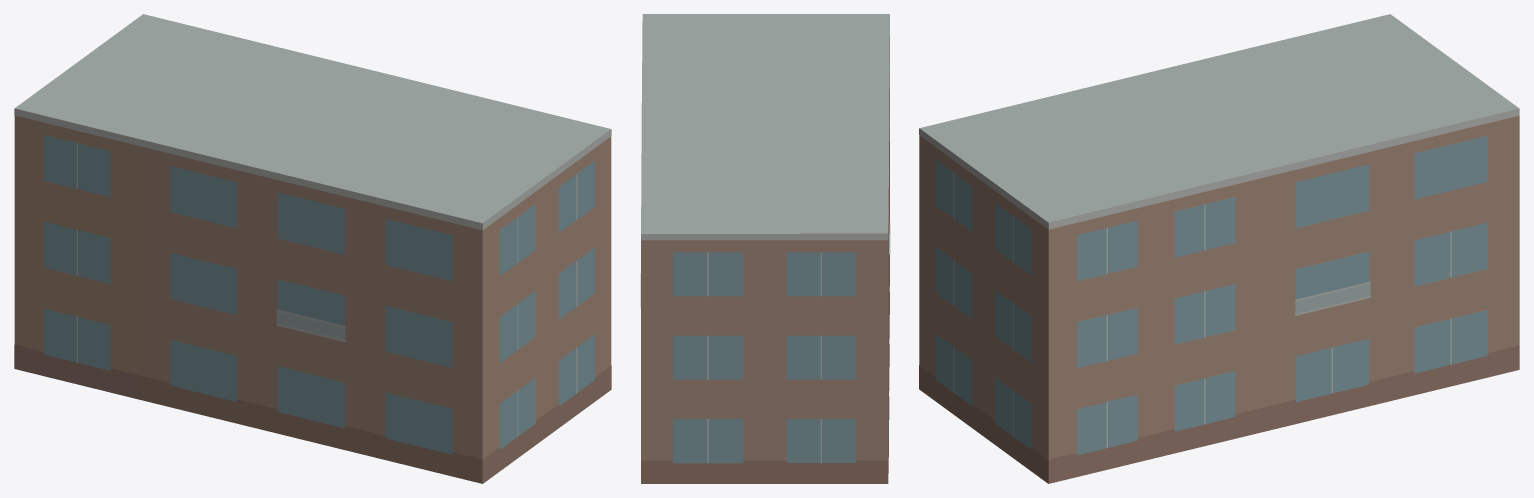
Rendered from survey-upis-32705850.glb.
The picture shows the model from 3 angles, left to right: view 1: azimuth 30°, elevation 25°; view 2: azimuth 150°, elevation 25°; view 3: azimuth 270°, elevation 25°; orthographic projection. The views are drawn at different scales.
Visible parts, largest first — view 1: survey-upis-32705850.tmp; view 2: survey-upis-32705850.tmp; view 3: survey-upis-32705850.tmp.
Part boxes in pixels (x1,y1,x2,y2): survey-upis-32705850.tmp: (14, 14, 611, 483); survey-upis-32705850.tmp: (640, 14, 890, 483); survey-upis-32705850.tmp: (919, 14, 1519, 483).
Bounding box in the file's own units: 15.69 × 9.15 × 19.07.
